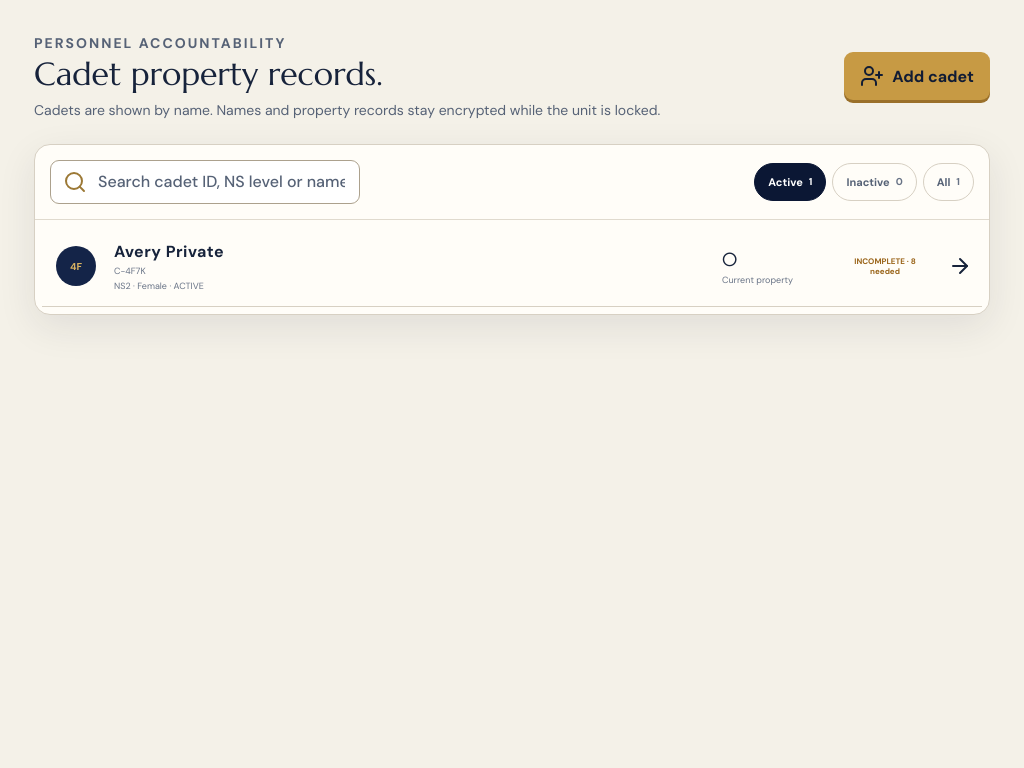
Test: Make phone ticket in the cadet drawer (mw-kmgi38.13) › a refused ticket (no coins, say) shows the reason and leaves Make phone ticket to try again
Click the button "C-4F7K" at (76, 266), box [42,227,982,307]
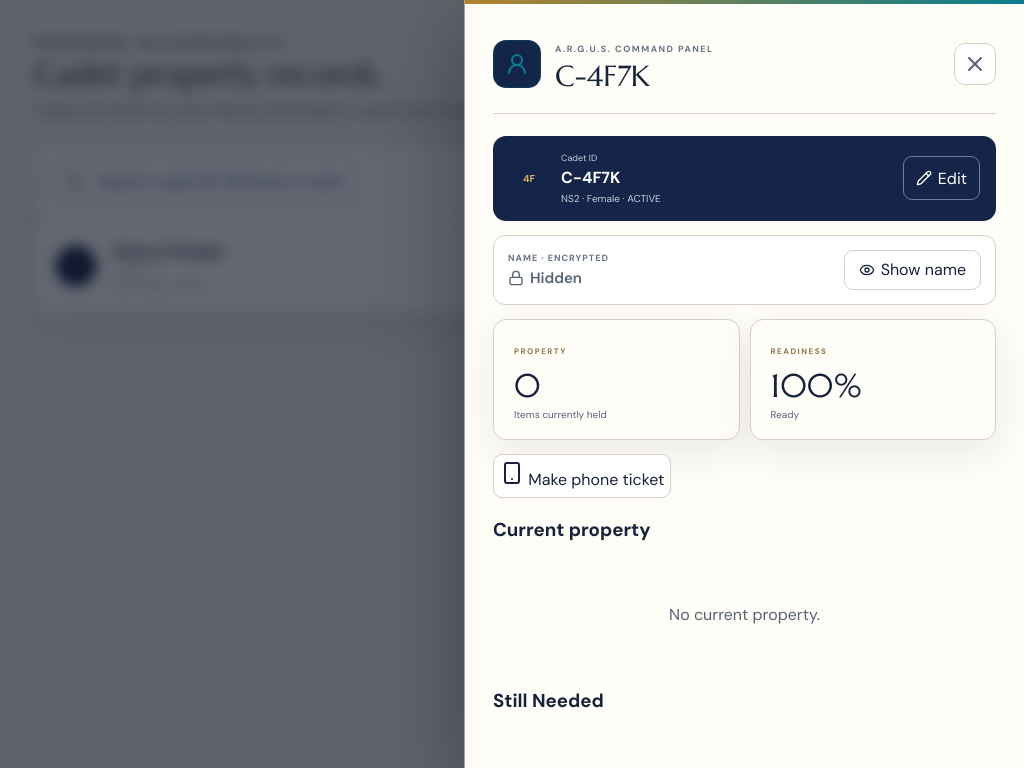
Click the button "Make phone ticket" at (582, 476), box [493,454,671,498]
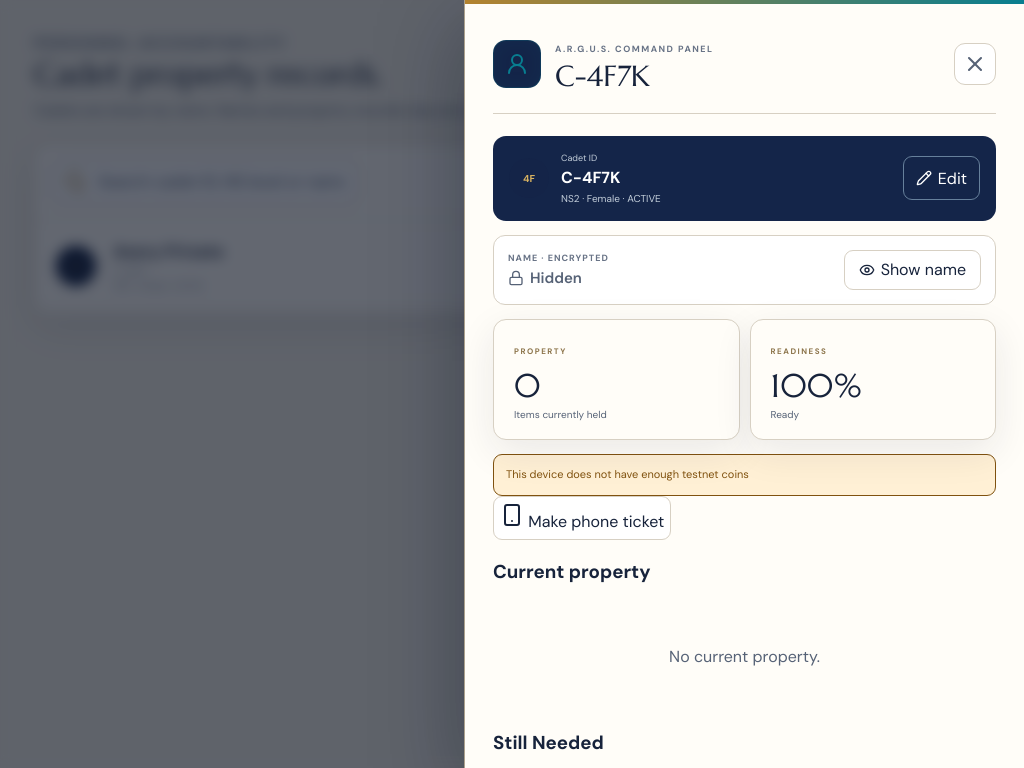
Expected: the button "Make phone ticket" is enabled, [493,496,671,540]
Expected: the message shows "not have enough testnet coins", [506,467,749,481]
